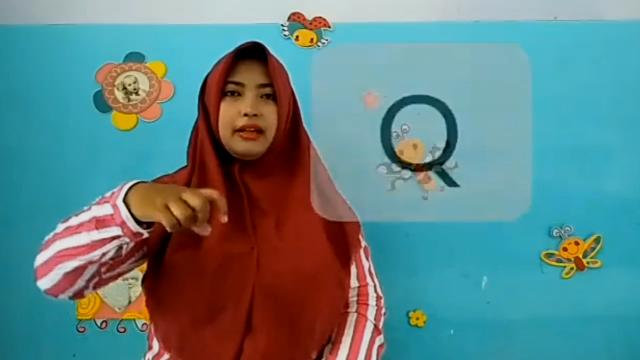Q: (132, 181, 232, 241)
